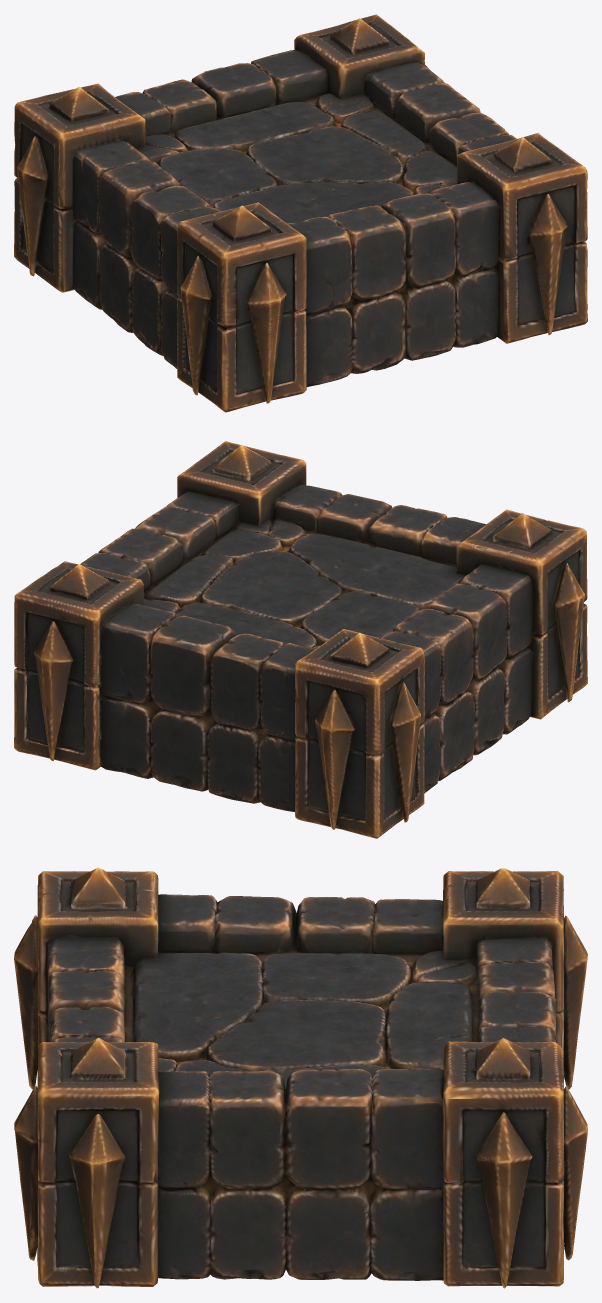
Rendered from normal-low.glb.
3 renders of one model, top to bottom at view 1: azimuth 30°, elevation 25°; view 2: azimuth 150°, elevation 25°; view 3: azimuth 270°, elevation 25°, orthographic. The views are drawn at different scales.
Parts seen in each view (by area): view 1: tripo_node_d83ec60f-524d-41c6-8158-b2d5cd1ad731; view 2: tripo_node_d83ec60f-524d-41c6-8158-b2d5cd1ad731; view 3: tripo_node_d83ec60f-524d-41c6-8158-b2d5cd1ad731.
Boxes of the visible parts, x1,y1,x2,y2 form: tripo_node_d83ec60f-524d-41c6-8158-b2d5cd1ad731: (14, 14, 587, 412); tripo_node_d83ec60f-524d-41c6-8158-b2d5cd1ad731: (14, 441, 587, 838); tripo_node_d83ec60f-524d-41c6-8158-b2d5cd1ad731: (14, 867, 587, 1288).
Bounding box in the file's own units: 0.9996 × 0.4335 × 0.9967.
1 material, 1 textured.
